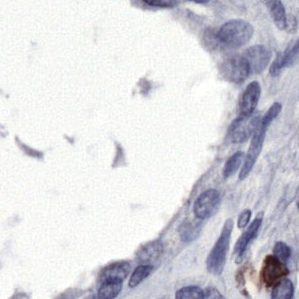Lymphocyte: (261, 253, 289, 288)
